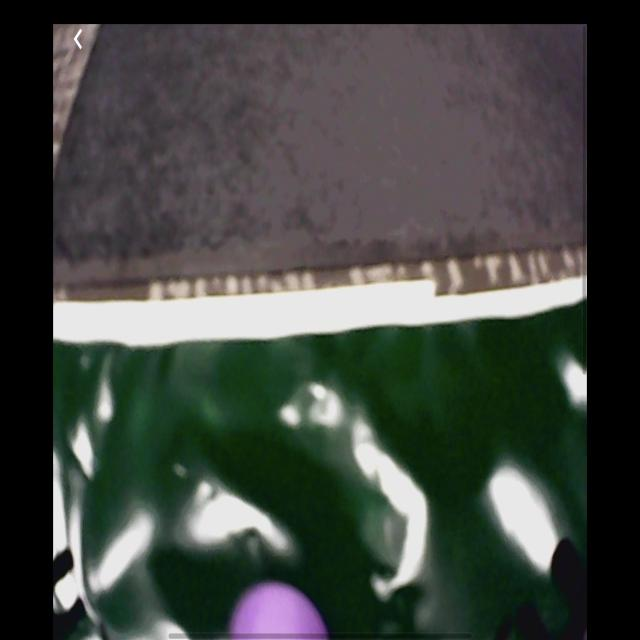ball: (231, 584, 327, 640)
